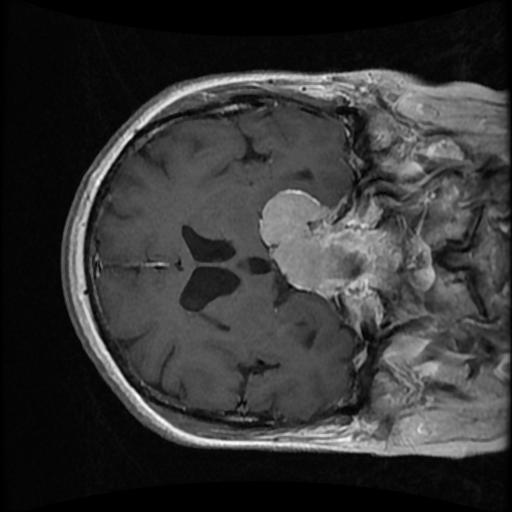meningioma: (258, 190, 360, 297)
